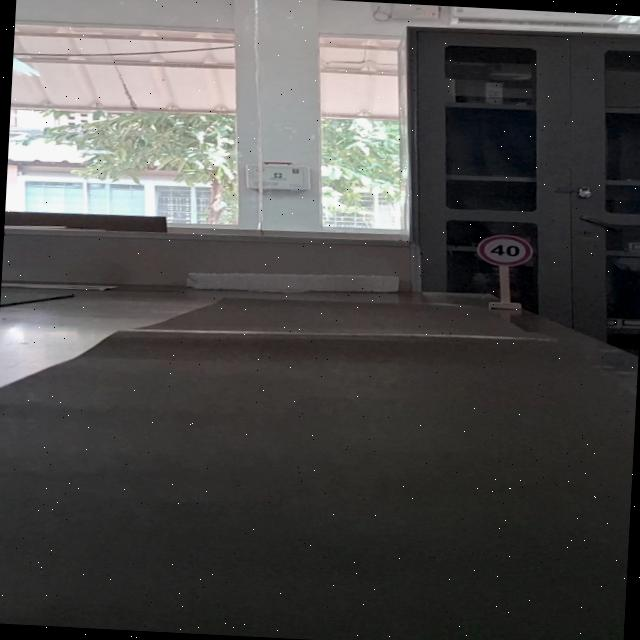Speed40: (474, 232, 536, 269)
